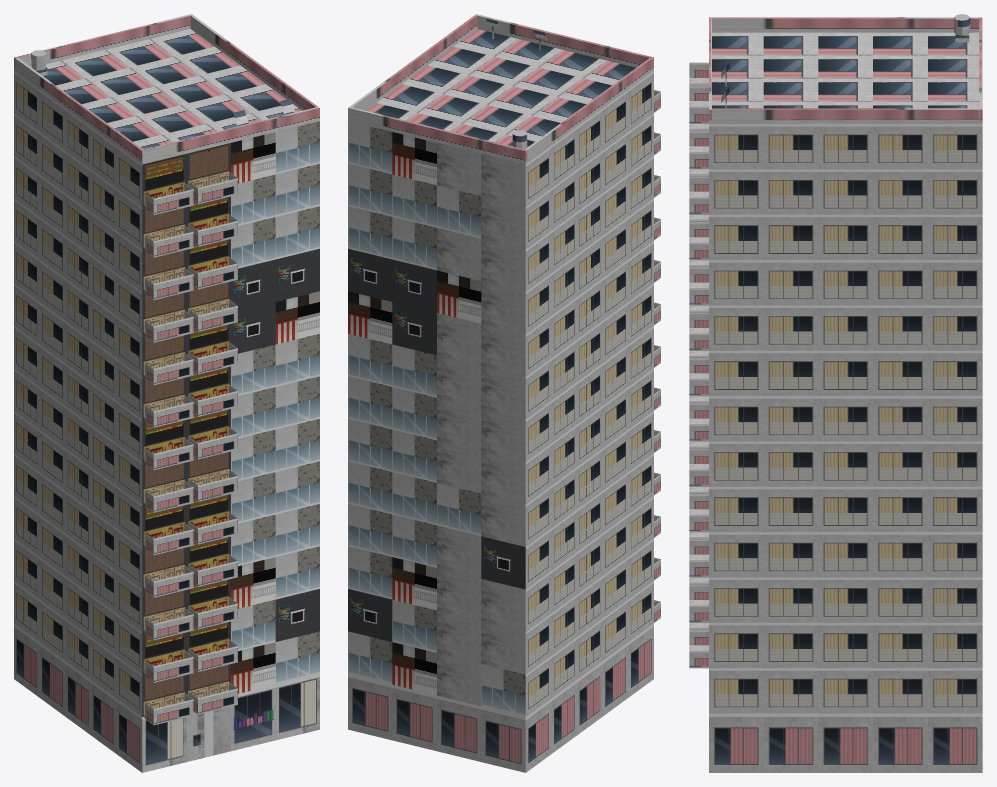
3 views of the same model, side by side, from view 1: azimuth 30°, elevation 25°; view 2: azimuth 150°, elevation 25°; view 3: azimuth 270°, elevation 25° (orthographic). The views are drawn at different scales.
Parts seen in each view (by area): view 1: Modern_4x5_f13_v1; view 2: Modern_4x5_f13_v1; view 3: Modern_4x5_f13_v1.
Part boxes in pixels (x1=…): Modern_4x5_f13_v1: x1=14, y1=14, x2=319, y2=772; Modern_4x5_f13_v1: x1=348, y1=14, x2=660, y2=772; Modern_4x5_f13_v1: x1=689, y1=14, x2=982, y2=772.
Bounding box in the file's own units: 14 × 47.35 × 18.75.
Materials: 1 (1 with a texture image).
